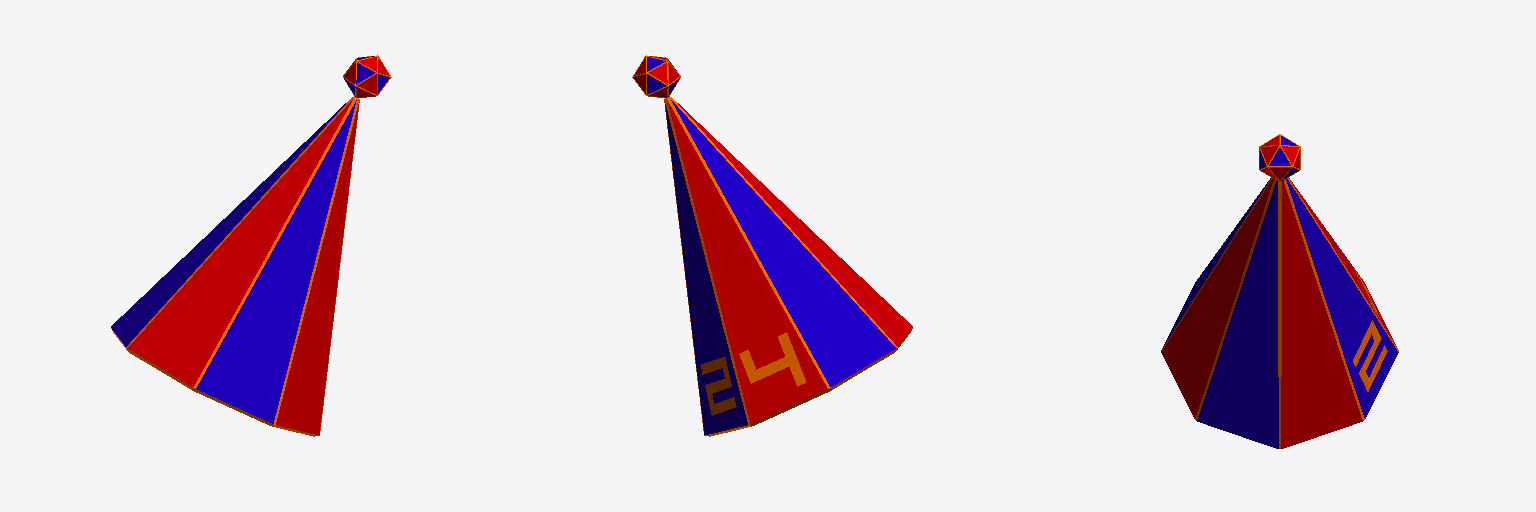
Rendered from new_year_2024.obj.
The picture shows the model from 3 angles: view 1: azimuth 30°, elevation 25°; view 2: azimuth 150°, elevation 25°; view 3: azimuth 270°, elevation 25°; orthographic projection.
Visible parts, largest first — view 1: 1, 2, 0; view 2: 2, 1, 0; view 3: 1, 2, 0.
Part boxes in pixels (left/top/right/bottom): 1: left=128, top=57, right=389, bottom=434; 2: left=111, top=56, right=389, bottom=423; 0: left=111, top=55, right=391, bottom=436; 2: left=647, top=57, right=895, bottom=434; 1: left=634, top=56, right=912, bottom=423; 0: left=632, top=55, right=912, bottom=436; 1: left=1161, top=136, right=1396, bottom=448; 2: left=1163, top=136, right=1398, bottom=448; 0: left=1161, top=134, right=1398, bottom=448.
Size of the model in its own units: 0.2862 by 0.3616 by 0.2278.